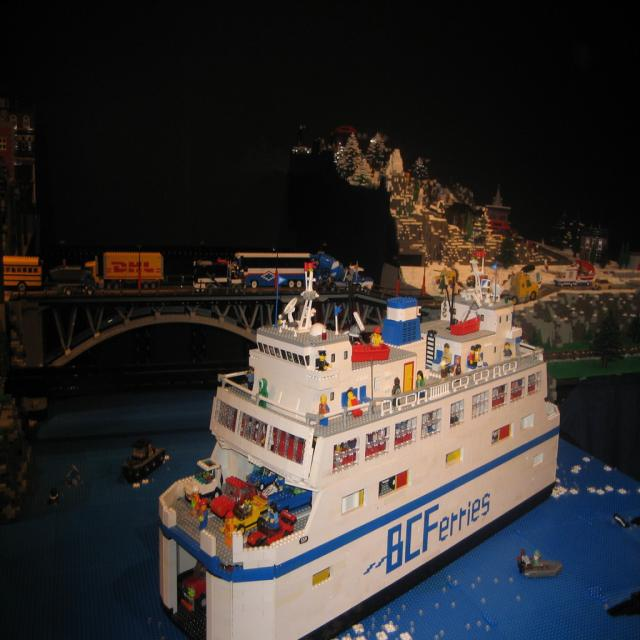Boat: (158, 258, 564, 640)
